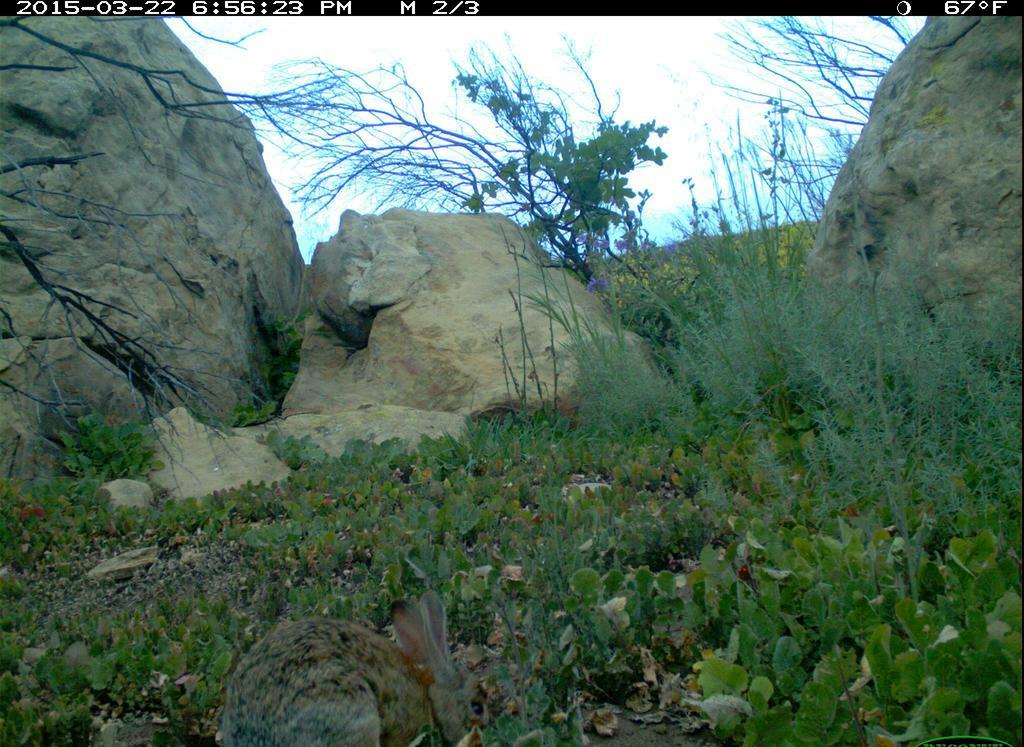rabbit: (158, 543, 536, 743)
